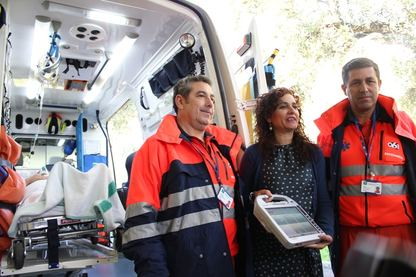ambulance: (0, 0, 281, 277)
